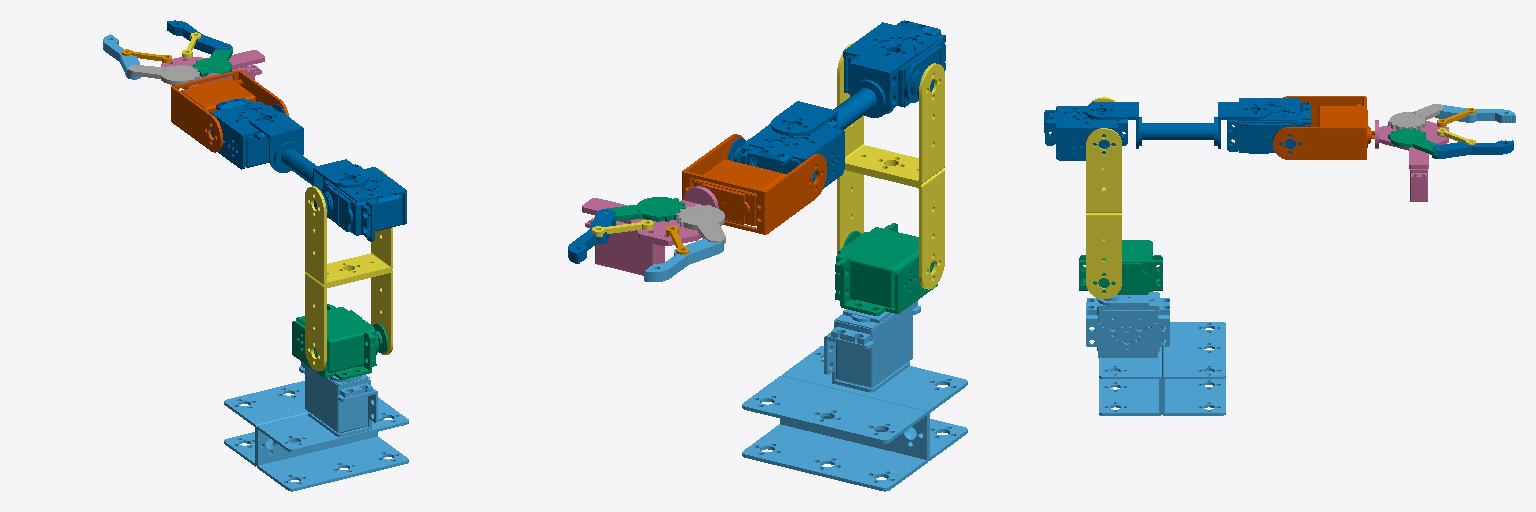
robot.urdf — servo6dof_description:
<?xml version="1.0" ?>
<!-- =================================================================================== -->
<!-- |    This document was autogenerated by xacro from servo6dof.urdf.xacro           | -->
<!-- |    EDITING THIS FILE BY HAND IS NOT RECOMMENDED                                 | -->
<!-- =================================================================================== -->
<robot name="servo6dof_description">
  <gazebo>
    &gt;
		
    <plugin filename="libgazebo_ros2_control.so" name="gazebo_ros2_control">
      <robot_param>robot_description</robot_param>
      <robot_param_node>robot_state_publisher</robot_param_node>
      <parameters/>
    </plugin>
  </gazebo>
  <ros2_control name="RobotSystem" type="system">
    <hardware>
      <plugin>gazebo_ros2_control/GazeboSystem</plugin>
    </hardware>
    <joint name="joint_1">
      <command_interface name="position">
        <param name="min"/>
        <param name="max"/>
      </command_interface>
      <state_interface name="position"/>
    </joint>
  </ros2_control>
  <link name="world"/>
  <link name="base_link">
    <inertial>
      <mass value="1.0"/>
      <inertia ixx="1.0" ixy="0.0" ixz="0.0" iyy="1.0" iyz="0.0" izz="1.0"/>
    </inertial>
    <visual>
      <origin rpy="0 0 0" xyz="0.25 0.25 0"/>
      <geometry>
        <mesh filename="package://servo6dof_description/meshes/basement.stl" scale="6 6 6"/>
      </geometry>
    </visual>
    <collision>
      <origin rpy="0 0 0" xyz="0.25 0.25 0"/>
      <geometry>
        <mesh filename="package://servo6dof_description/meshes/basement.stl" scale="6 6 6"/>
      </geometry>
    </collision>
  </link>
  <joint name="virtual_joint" type="fixed">
    <parent link="world"/>
    <child link="base_link"/>
    <origin rpy="0 0 0" xyz="0 0 0"/>
  </joint>
  <link name="primeiro_elo">
    <inertial>
      <mass value="0.1"/>
      <inertia ixx="1.0" ixy="0.0" ixz="0.0" iyy="1.0" iyz="0.0" izz="1.0"/>
    </inertial>
    <visual>
      <origin rpy="0 0 0" xyz="0.25 0.57 0"/>
      <geometry>
        <mesh filename="package://servo6dof_description/meshes/manipulator_elo1.stl" scale="6 6 6"/>
      </geometry>
    </visual>
    <collision>
      <origin rpy="0 0 0" xyz="0.25 0.57 0"/>
      <geometry>
        <mesh filename="package://servo6dof_description/meshes/manipulator_elo1.stl" scale="6 6 6"/>
      </geometry>
    </collision>
  </link>
  <joint name="joint_1" type="revolute">
    <parent link="base_link"/>
    <child link="primeiro_elo"/>
    <axis xyz="0 0 1"/>
    <origin rpy="0 0 0" xyz="0 -0.23 -0.01"/>
    <limit effort="30.0" lower="-1.570795" upper="1.570795" velocity="10.0"/>
  </joint>
  <link name="segundo_elo">
    <inertial>
      <mass value="0.1"/>
      <inertia ixx="1.0" ixy="0.0" ixz="0.0" iyy="1.0" iyz="0.0" izz="1.0"/>
    </inertial>
    <visual>
      <origin rpy="0 0 0" xyz="0.3 0.6 -0.55"/>
      <geometry>
        <mesh filename="package://servo6dof_description/meshes/manipulator_elo2.stl" scale="6 6 6"/>
      </geometry>
    </visual>
    <collision>
      <origin rpy="0 0 0" xyz="0.3 0.6 -0.55"/>
      <geometry>
        <mesh filename="package://servo6dof_description/meshes/manipulator_elo2.stl" scale="6 6 6"/>
      </geometry>
    </collision>
  </link>
  <joint name="joint_2" type="revolute">
    <parent link="primeiro_elo"/>
    <child link="segundo_elo"/>
    <axis xyz="1 0 0"/>
    <origin rpy="0 0 0" xyz="-0.05 -0.03 0.57"/>
    <limit effort="30.0" lower="-1.570795" upper="1.570795" velocity="10.0"/>
  </joint>
  <link name="terceiro_elo">
    <inertial>
      <mass value="0.1"/>
      <inertia ixx="1.0" ixy="0.0" ixz="0.0" iyy="1.0" iyz="0.0" izz="1.0"/>
    </inertial>
    <visual>
      <origin rpy="0 0 0" xyz="0.25 0.6 -1.18"/>
      <geometry>
        <mesh filename="package://servo6dof_description/meshes/manipulator_elo3.stl" scale="6 6 6"/>
      </geometry>
    </visual>
    <collision>
      <origin rpy="0 0 0" xyz="0.25 0.6 -1.18"/>
      <geometry>
        <mesh filename="package://servo6dof_description/meshes/manipulator_elo3.stl" scale="6 6 6"/>
      </geometry>
    </collision>
  </link>
  <joint name="joint_3" type="revolute">
    <parent link="segundo_elo"/>
    <child link="terceiro_elo"/>
    <axis xyz="1 0 0"/>
    <origin rpy="0 0 0" xyz="0.06 0 0.63"/>
    <limit effort="30.0" lower="-1.570795" upper="1.570795" velocity="10.0"/>
  </joint>
  <link name="quarto_elo">
    <inertial>
      <mass value="0.1"/>
      <inertia ixx="1.0" ixy="0.0" ixz="0.0" iyy="1.0" iyz="0.0" izz="1.0"/>
    </inertial>
    <visual>
      <origin rpy="0 0 0" xyz="0.25 -0.187 -1.18"/>
      <geometry>
        <mesh filename="package://servo6dof_description/meshes/manipulator_elo4.stl" scale="6 6 6"/>
      </geometry>
    </visual>
    <collision>
      <origin rpy="0 0 0" xyz="0.25 -0.187 -1.18"/>
      <geometry>
        <mesh filename="package://servo6dof_description/meshes/manipulator_elo4.stl" scale="6 6 6"/>
      </geometry>
    </collision>
  </link>
  <joint name="joint_4" type="revolute">
    <parent link="terceiro_elo"/>
    <child link="quarto_elo"/>
    <axis xyz="1 0 0"/>
    <origin rpy="0 0 0" xyz="0 0.78 0"/>
    <limit effort="30.0" lower="-1.570795" upper="1.570795" velocity="10.0"/>
  </joint>
  <link name="base_garra">
    <inertial>
      <mass value="0.05"/>
      <inertia ixx="1.0" ixy="0.0" ixz="0.0" iyy="1.0" iyz="0.0" izz="1.0"/>
    </inertial>
    <visual>
      <origin rpy="0 0 1.570795" xyz="0 0 0"/>
      <geometry>
        <mesh filename="package://servo6dof_description/meshes/base_garra.stl" scale="6 6 6"/>
      </geometry>
    </visual>
    <collision>
      <origin rpy="0 0 1.570795" xyz="0 0 0"/>
      <geometry>
        <mesh filename="package://servo6dof_description/meshes/base_garra.stl" scale="6 6 6"/>
      </geometry>
    </collision>
  </link>
  <joint name="joint_5" type="revolute">
    <parent link="quarto_elo"/>
    <child link="base_garra"/>
    <axis xyz="0 1 0"/>
    <origin rpy="0 0 0" xyz="0.02 0.36 0"/>
    <limit effort="30.0" lower="-1.570795" upper="1.570795" velocity="10.0"/>
  </joint>
  <link name="garra_elo1">
    <inertial>
      <mass value="0.01"/>
      <inertia ixx="1.0" ixy="0.0" ixz="0.0" iyy="1.0" iyz="0.0" izz="1.0"/>
    </inertial>
    <visual>
      <origin rpy="0 3.14159 -1.570795" xyz="0.07 -0.15 0.05"/>
      <geometry>
        <mesh filename="package://servo6dof_description/meshes/garra_elo1.stl" scale="6 6 6"/>
      </geometry>
    </visual>
    <collision>
      <origin rpy="0 3.14159 -1.570795" xyz="0.07 -0.15 0.05"/>
      <geometry>
        <mesh filename="package://servo6dof_description/meshes/garra_elo1.stl" scale="6 6 6"/>
      </geometry>
    </collision>
  </link>
  <joint name="joint_6" type="revolute">
    <parent link="base_garra"/>
    <child link="garra_elo1"/>
    <axis xyz="0 0 1"/>
    <origin rpy="0 0 0" xyz="-0.072 0.12 0.01"/>
    <limit effort="30.0" lower="-0.6981311111111111" upper="0.5235983333333333" velocity="10.0"/>
  </joint>
  <link name="garra_elo2a">
    <inertial>
      <mass value="0.01"/>
      <inertia ixx="1.0" ixy="0.0" ixz="0.0" iyy="1.0" iyz="0.0" izz="1.0"/>
    </inertial>
    <visual>
      <origin rpy="0 0 0" xyz="-0.403 0.133 0"/>
      <geometry>
        <mesh filename="package://servo6dof_description/meshes/garra_elo2.stl" scale="6 6 6"/>
      </geometry>
    </visual>
    <collision>
      <origin rpy="0 0 0" xyz="-0.403 0.133 0"/>
      <geometry>
        <mesh filename="package://servo6dof_description/meshes/garra_elo2.stl" scale="6 6 6"/>
      </geometry>
    </collision>
  </link>
  <joint name="joint_garra_1" type="revolute">
    <parent link="base_garra"/>
    <child link="garra_elo2a"/>
    <axis xyz="0 0 1"/>
    <origin rpy="0 0 0" xyz="-0.05 0.27 0.01"/>
    <mimic joint="joint_6" multiplier="1" offset="-0.2"/>
    <limit effort="30.0" lower="-1.570795" upper="1.570795" velocity="10.0"/>
  </joint>
  <link name="garra_elo3a">
    <inertial>
      <mass value="0.01"/>
      <inertia ixx="1.0" ixy="0.0" ixz="0.0" iyy="1.0" iyz="0.0" izz="1.0"/>
    </inertial>
    <visual>
      <origin rpy="0 3.14159 0" xyz="0.28 0.205 0"/>
      <geometry>
        <mesh filename="package://servo6dof_description/meshes/garra_pinca.stl" scale="6 6 6"/>
      </geometry>
    </visual>
    <collision>
      <origin rpy="0 3.14159 0" xyz="0.28 0.205 0"/>
      <geometry>
        <mesh filename="package://servo6dof_description/meshes/garra_pinca.stl" scale="6 6 6"/>
      </geometry>
    </collision>
  </link>
  <joint name="joint_pinca_a" type="revolute">
    <parent link="garra_elo1"/>
    <child link="garra_elo3a"/>
    <axis xyz="0 0 1"/>
    <origin rpy="0 0 -1.570795" xyz="-0.13 0.13 0"/>
    <mimic joint="joint_6" multiplier="-1" offset="0.2"/>
    <limit effort="30.0" velocity="10.0"/>
  </joint>
  <link name="garra_elo2">
    <inertial>
      <mass value="0.01"/>
      <inertia ixx="1.0" ixy="0.0" ixz="0.0" iyy="1.0" iyz="0.0" izz="1.0"/>
    </inertial>
    <visual>
      <origin rpy="0 0 1.570795" xyz="-0.07 -0.15 -0.03"/>
      <geometry>
        <mesh filename="package://servo6dof_description/meshes/garra_elo1.stl" scale="6 6 6"/>
      </geometry>
    </visual>
    <collision>
      <origin rpy="0 0 1.570795" xyz="-0.07 -0.15 -0.03"/>
      <geometry>
        <mesh filename="package://servo6dof_description/meshes/garra_elo1.stl" scale="6 6 6"/>
      </geometry>
    </collision>
  </link>
  <joint name="joint_7" type="revolute">
    <parent link="base_garra"/>
    <child link="garra_elo2"/>
    <axis xyz="0 0 1"/>
    <origin rpy="0 0 0" xyz="+0.072 0.12 0.01"/>
    <mimic joint="joint_6" multiplier="-1" offset="0"/>
    <limit effort="30.0" lower="-0.5235983333333333" upper="0.5235983333333333" velocity="10.0"/>
  </joint>
  <link name="garra_elo2b">
    <inertial>
      <mass value="0.01"/>
      <inertia ixx="1.0" ixy="0.0" ixz="0.0" iyy="1.0" iyz="0.0" izz="1.0"/>
    </inertial>
    <visual>
      <origin rpy="0 0 3.14159" xyz="0.273 -0.036 0"/>
      <geometry>
        <mesh filename="package://servo6dof_description/meshes/garra_elo2.stl" scale="6 6 6"/>
      </geometry>
    </visual>
    <collision>
      <origin rpy="0 0 3.14159" xyz="0.273 -0.036 0"/>
      <geometry>
        <mesh filename="package://servo6dof_description/meshes/garra_elo2.stl" scale="6 6 6"/>
      </geometry>
    </collision>
  </link>
  <joint name="joint_garra_3" type="revolute">
    <parent link="base_garra"/>
    <child link="garra_elo2b"/>
    <axis xyz="0 0 1"/>
    <origin rpy="0 0 0" xyz="+0.04 0.27 0.01"/>
    <mimic joint="joint_6" multiplier="-1" offset="-1.6708"/>
    <limit effort="30.0" lower="-1.570795" upper="1.570795" velocity="10.0"/>
  </joint>
  <link name="garra_elo3b">
    <inertial>
      <mass value="0.01"/>
      <inertia ixx="1.0" ixy="0.0" ixz="0.0" iyy="1.0" iyz="0.0" izz="1.0"/>
    </inertial>
    <visual>
      <origin rpy="0 0 0" xyz="-0.285 0.205 0"/>
      <geometry>
        <mesh filename="package://servo6dof_description/meshes/garra_pinca.stl" scale="6 6 6"/>
      </geometry>
    </visual>
    <collision>
      <origin rpy="0 0 0" xyz="-0.285 0.205 0"/>
      <geometry>
        <mesh filename="package://servo6dof_description/meshes/garra_pinca.stl" scale="6 6 6"/>
      </geometry>
    </collision>
  </link>
  <joint name="joint_pinca_b" type="revolute">
    <parent link="garra_elo2"/>
    <child link="garra_elo3b"/>
    <axis xyz="0 0 1"/>
    <origin rpy="0 0 1.570795" xyz="0.13 0.13 0"/>
    <mimic joint="joint_6" multiplier="1" offset="-0.2"/>
    <limit effort="30.0" velocity="10.0"/>
  </joint>
  <transmission name="transmission_1">
    <plugin>transmission_interface/SimpleTransmission</plugin>
    <actuator name="motor_1" role="acuator1"/>
    <joint name="joint_1" role="joint1">
      <mechanical_reduction>1.0</mechanical_reduction>
    </joint>
  </transmission>
  <transmission name="transmission_2">
    <plugin>transmission_interface/SimpleTransmission</plugin>
    <actuator name="motor_2" role="acuator1"/>
    <joint name="joint_2" role="joint1">
      <mechanical_reduction>1.0</mechanical_reduction>
    </joint>
  </transmission>
  <transmission name="transmission_3">
    <plugin>transmission_interface/SimpleTransmission</plugin>
    <actuator name="motor_3" role="acuator1"/>
    <joint name="joint_3" role="joint1">
      <mechanical_reduction>1.0</mechanical_reduction>
    </joint>
  </transmission>
  <transmission name="transmission_4">
    <plugin>transmission_interface/SimpleTransmission</plugin>
    <actuator name="motor_4" role="acuator1"/>
    <joint name="joint_4" role="joint1">
      <mechanical_reduction>1.0</mechanical_reduction>
    </joint>
  </transmission>
  <transmission name="transmission_5">
    <plugin>transmission_interface/SimpleTransmission</plugin>
    <actuator name="motor_5" role="acuator1"/>
    <joint name="joint_5" role="joint1">
      <mechanical_reduction>1.0</mechanical_reduction>
    </joint>
  </transmission>
  <transmission name="transmission_6">
    <plugin>transmission_interface/SimpleTransmission</plugin>
    <actuator name="motor_6" role="acuator1"/>
    <joint name="joint_6" role="joint1">
      <mechanical_reduction>1.0</mechanical_reduction>
    </joint>
  </transmission>
</robot>

--- Facts derived from the render (not from the file) ---
The picture shows the robot from 3 angles, left to right: view 1: azimuth 30°, elevation 25°; view 2: azimuth 150°, elevation 25°; view 3: azimuth 270°, elevation 25°; orthographic projection.
Robot: servo6dof_description — 13 links, 12 joints (11 revolute, 1 fixed); root link world; default pose: every joint at zero.
Links seen in each view (by area): view 1: base_link, terceiro_elo, segundo_elo, quarto_elo, primeiro_elo, base_garra, garra_elo1, garra_elo3b, garra_elo2, garra_elo3a; view 2: base_link, terceiro_elo, segundo_elo, quarto_elo, primeiro_elo, base_garra, garra_elo3a, garra_elo1, garra_elo2, garra_elo3b; view 3: base_link, terceiro_elo, segundo_elo, quarto_elo, primeiro_elo, base_garra, garra_elo3b, garra_elo3a, garra_elo1, garra_elo2.
Link boxes in pixels (x1=…): base_link: x1=224, y1=362, x2=408, y2=491; terceiro_elo: x1=210, y1=98, x2=406, y2=241; segundo_elo: x1=305, y1=170, x2=392, y2=371; quarto_elo: x1=171, y1=70, x2=288, y2=152; primeiro_elo: x1=292, y1=304, x2=387, y2=379; base_garra: x1=161, y1=50, x2=264, y2=88; garra_elo1: x1=128, y1=65, x2=199, y2=84; garra_elo3b: x1=167, y1=20, x2=231, y2=54; garra_elo2: x1=193, y1=47, x2=232, y2=77; garra_elo3a: x1=103, y1=34, x2=140, y2=79; base_link: x1=742, y1=301, x2=967, y2=491; terceiro_elo: x1=728, y1=20, x2=945, y2=188; segundo_elo: x1=837, y1=43, x2=944, y2=289; quarto_elo: x1=682, y1=134, x2=826, y2=234; primeiro_elo: x1=835, y1=223, x2=937, y2=315; base_garra: x1=582, y1=186, x2=718, y2=275; garra_elo3a: x1=644, y1=238, x2=723, y2=281; garra_elo1: x1=676, y1=204, x2=725, y2=243; garra_elo2: x1=604, y1=197, x2=685, y2=221; garra_elo3b: x1=568, y1=209, x2=615, y2=263; base_link: x1=1086, y1=292, x2=1225, y2=415; terceiro_elo: x1=1044, y1=98, x2=1310, y2=160; segundo_elo: x1=1086, y1=97, x2=1121, y2=298; quarto_elo: x1=1273, y1=96, x2=1374, y2=159; primeiro_elo: x1=1079, y1=240, x2=1162, y2=294; base_garra: x1=1375, y1=120, x2=1448, y2=201; garra_elo3b: x1=1432, y1=140, x2=1513, y2=158; garra_elo3a: x1=1435, y1=105, x2=1515, y2=122; garra_elo1: x1=1388, y1=104, x2=1443, y2=129; garra_elo2: x1=1388, y1=128, x2=1439, y2=155.
Size in the robot's own frame: 0.638 by 1.96 by 1.29 metres.
12 mesh visuals loaded from 9 distinct referenced files (9 binary STL).
